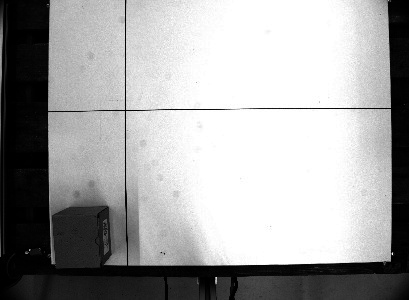b5: (50, 204, 113, 270)
